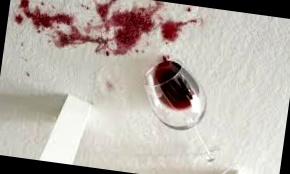wine: (92, 0, 189, 70), (12, 0, 93, 56)
